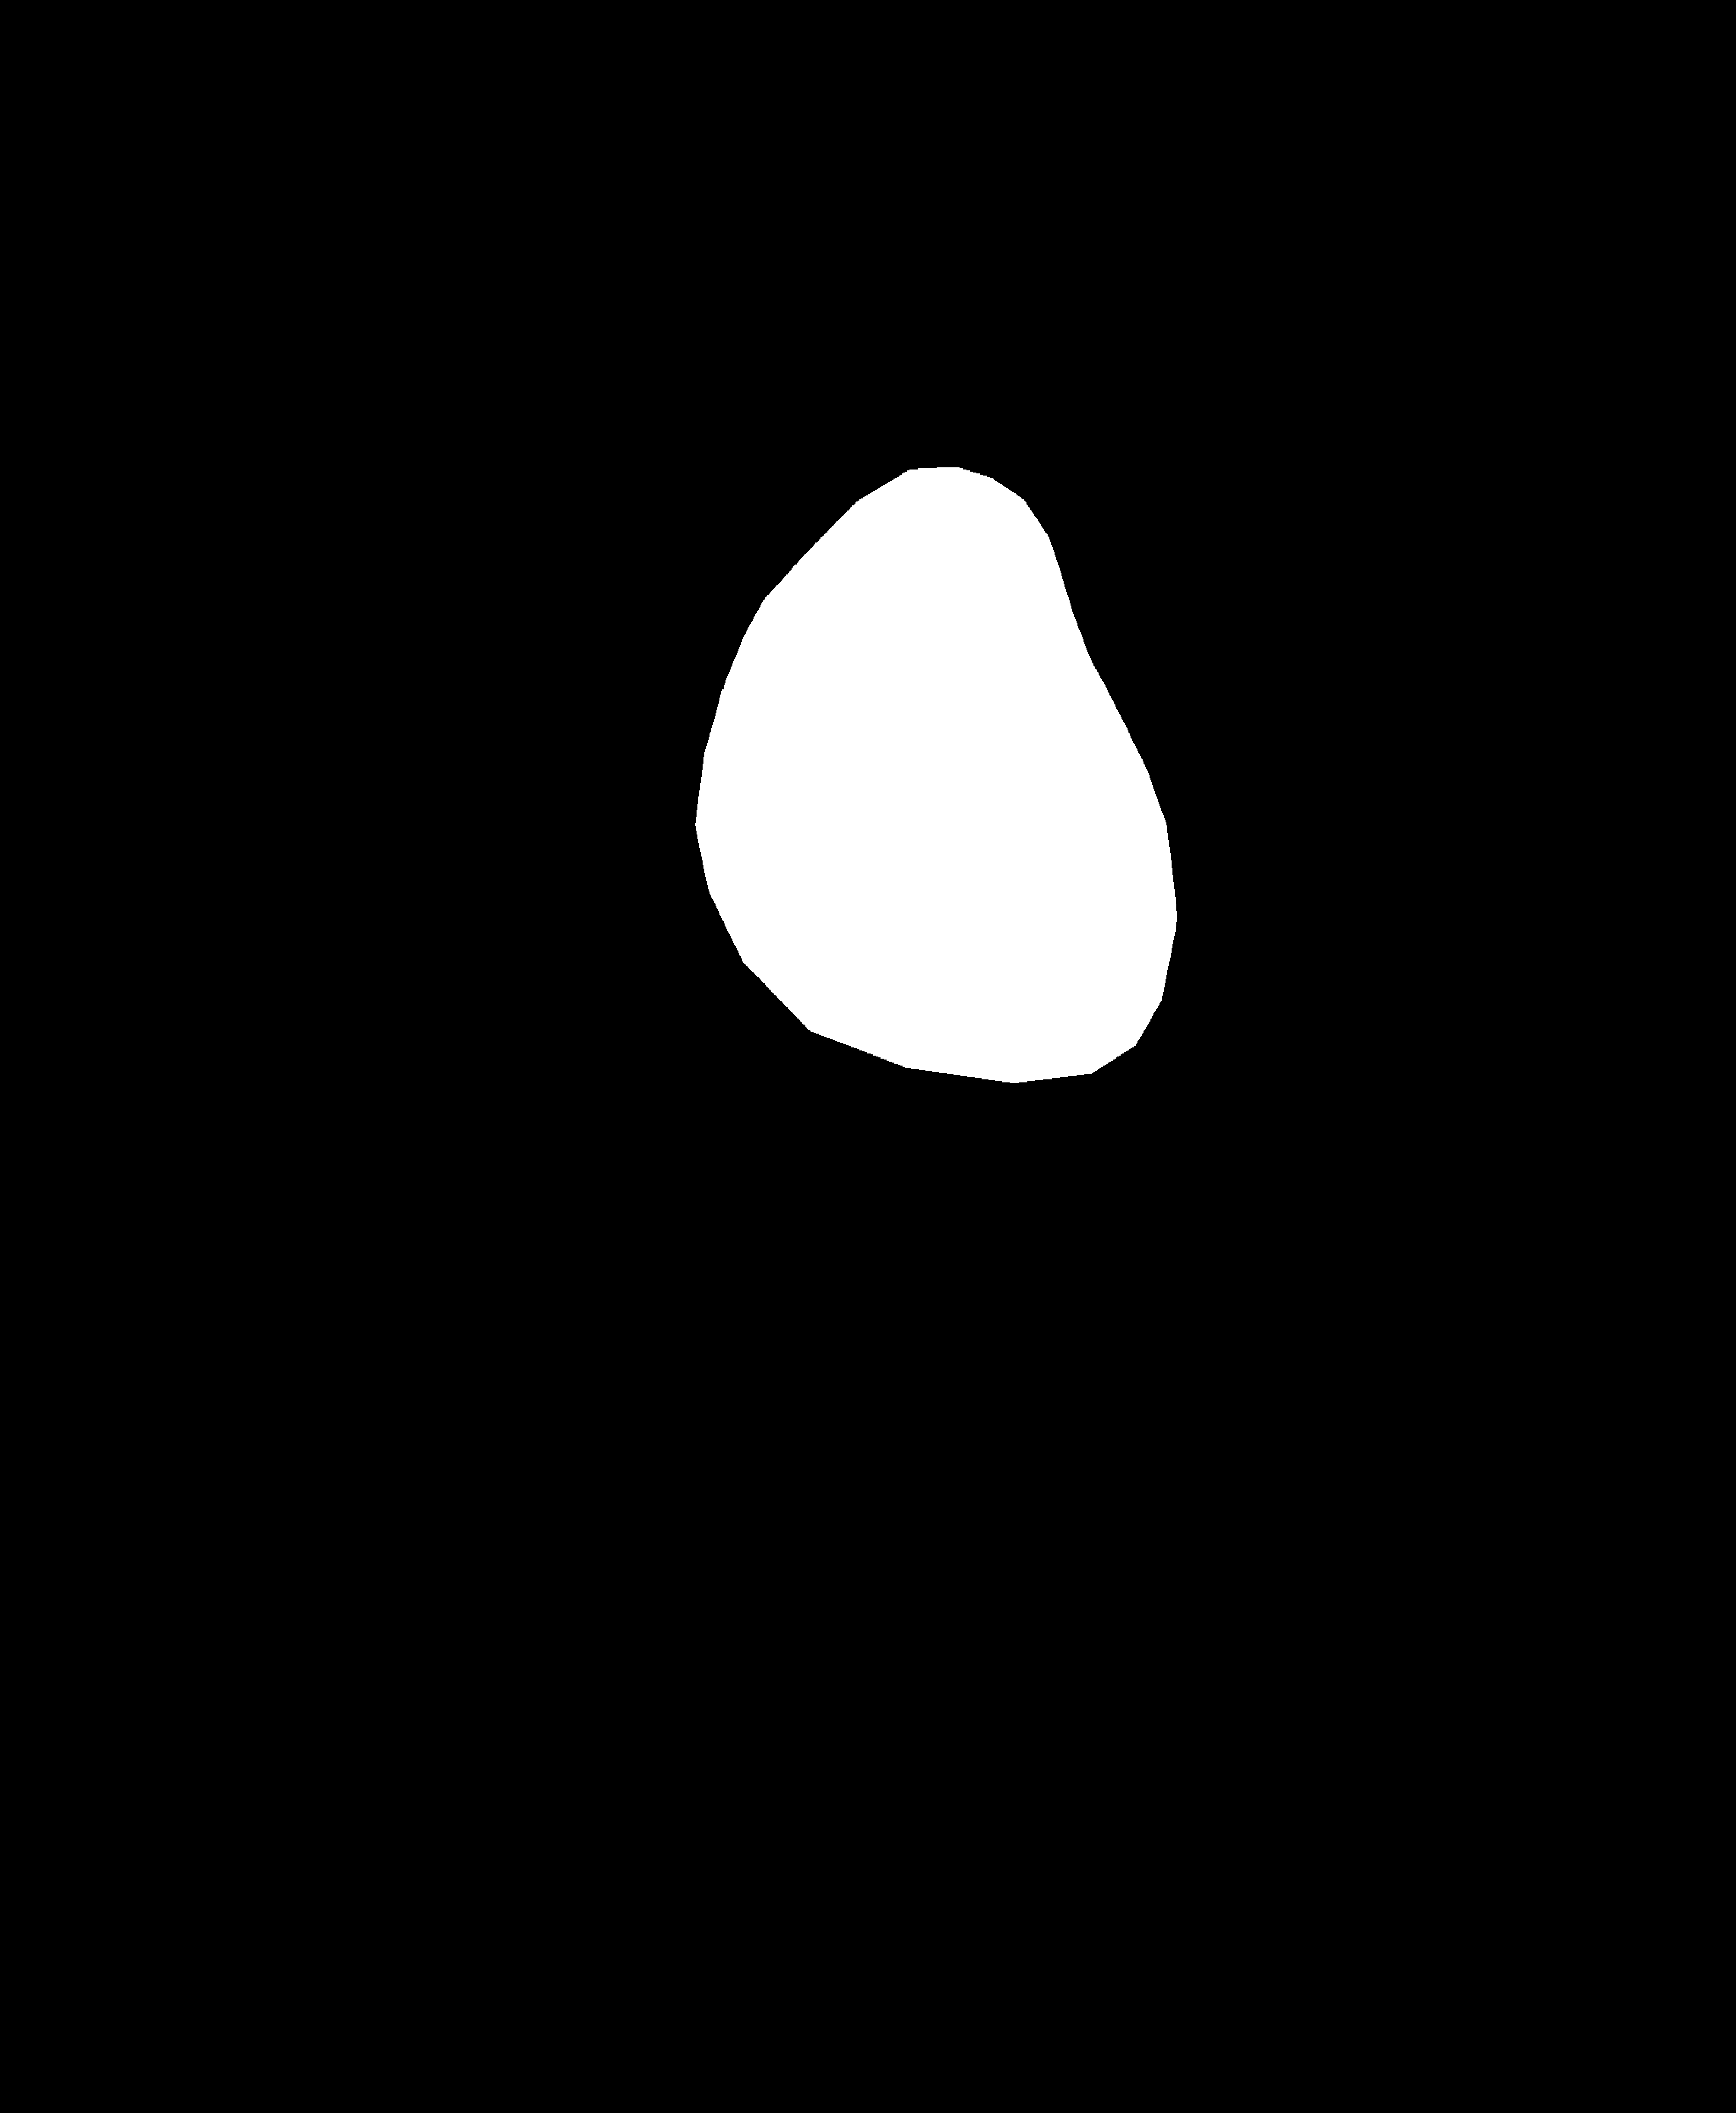heart: (695, 628, 1173, 1046)
left_lung: (297, 181, 839, 1243)
right_lung: (962, 183, 1459, 1239)
